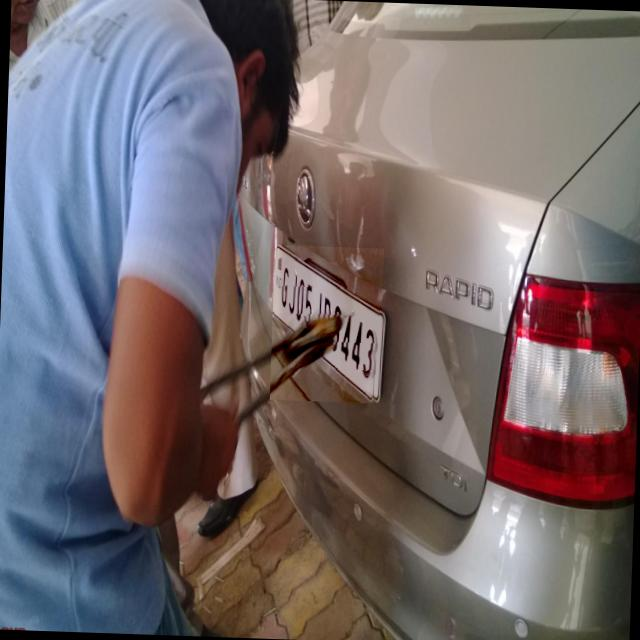Plate: (271, 245, 385, 404)
